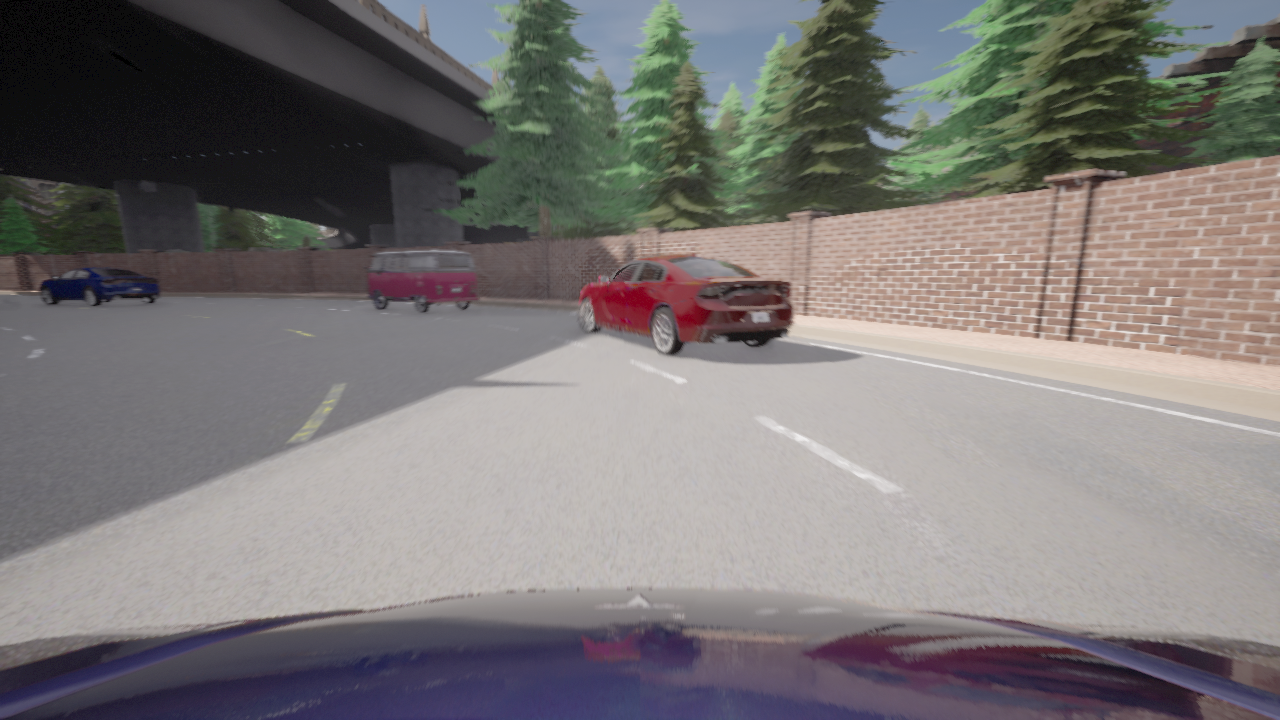cyclist: (0, 588, 1279, 719), (578, 252, 794, 355), (365, 249, 478, 312), (41, 266, 160, 306)
